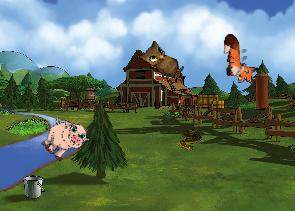fox: (222, 33, 259, 86)
owl: (136, 37, 190, 80)
pig: (36, 111, 92, 167)
